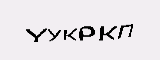К: (96, 22, 118, 46), (63, 23, 79, 47)
П: (118, 16, 137, 46)
Р: (78, 22, 95, 46)
У: (46, 23, 62, 48)
Ү: (23, 25, 47, 46)
